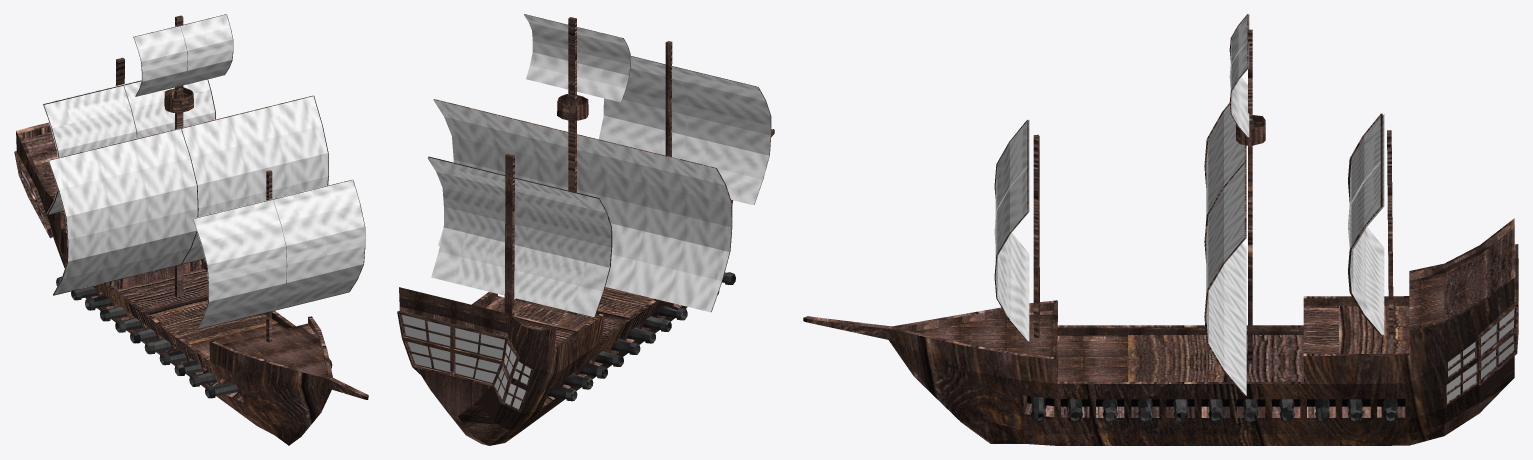
File: pirate_ship7.fbx
3 renders of one model, left to right at view 1: azimuth 30°, elevation 25°; view 2: azimuth 150°, elevation 25°; view 3: azimuth 270°, elevation 25°, orthographic. The views are drawn at different scales.
Visible parts, largest first — view 1: PirateShip; view 2: PirateShip; view 3: PirateShip.
Part boxes in pixels (x1,y1,x2,y2): PirateShip: (14, 14, 368, 445); PirateShip: (397, 14, 774, 445); PirateShip: (803, 14, 1518, 445).
Size of the model in its own units: 515 by 647 by 1017.
